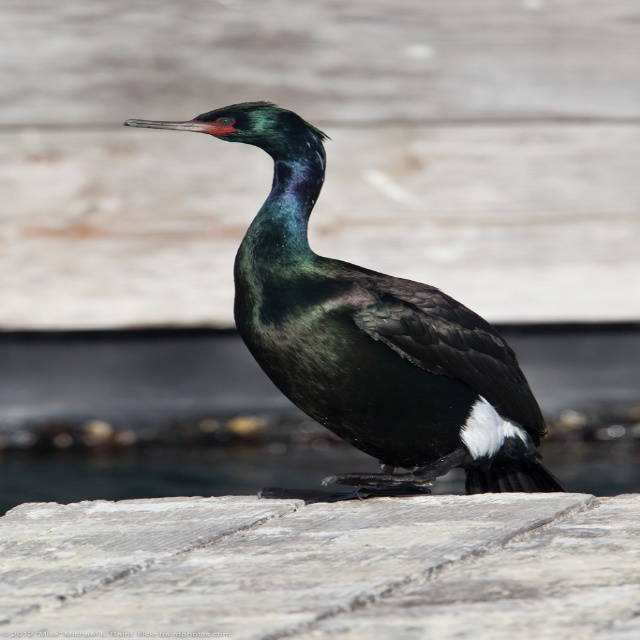Duck: (141, 98, 561, 492)
